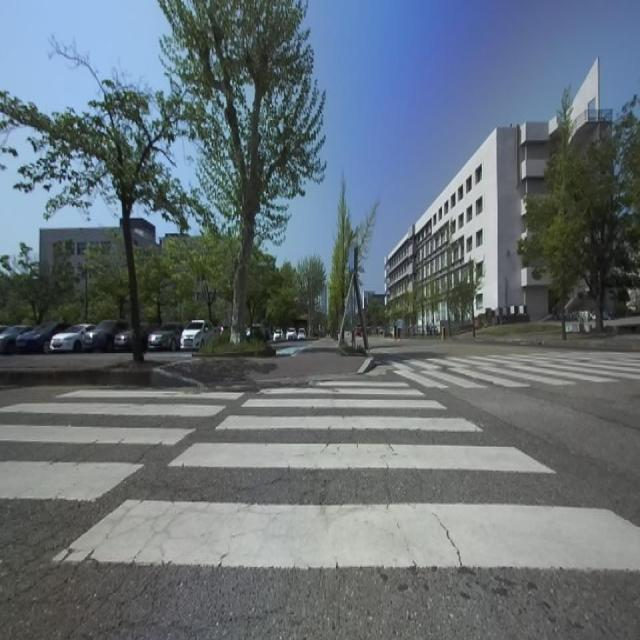sidewalk: (166, 339, 366, 385), (0, 355, 132, 368), (568, 334, 640, 343), (479, 334, 562, 340), (144, 356, 191, 365)
